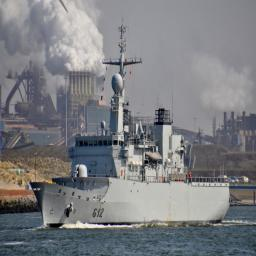Fragata: (30, 19, 231, 227)
